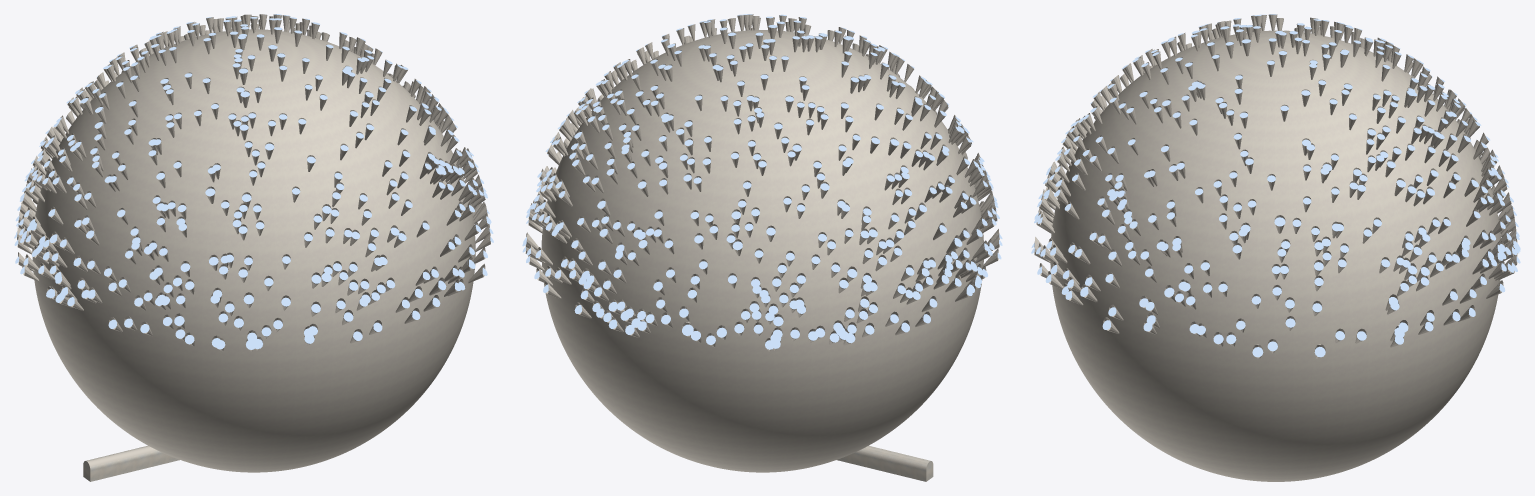
Rendered from newtons_cenotaph.glb.
3 views of the same model, side by side, from view 1: azimuth 30°, elevation 25°; view 2: azimuth 150°, elevation 25°; view 3: azimuth 270°, elevation 25° (orthographic).
Parts seen in each view (by area): view 1: INTERIOR, SKYCAPS; view 2: INTERIOR, SKYCAPS; view 3: INTERIOR, SKYCAPS.
Part boxes in pixels (x1=…): INTERIOR: x1=17, y1=14, x2=490, y2=481; SKYCAPS: x1=14, y1=14, x2=493, y2=349; INTERIOR: x1=525, y1=14, x2=999, y2=481; SKYCAPS: x1=522, y1=14, x2=1002, y2=349; INTERIOR: x1=1034, y1=14, x2=1517, y2=481; SKYCAPS: x1=1031, y1=14, x2=1520, y2=357.
Bounding box in the file's own units: 152 × 141 × 152.
Materials: 7 (6 with a texture image).
